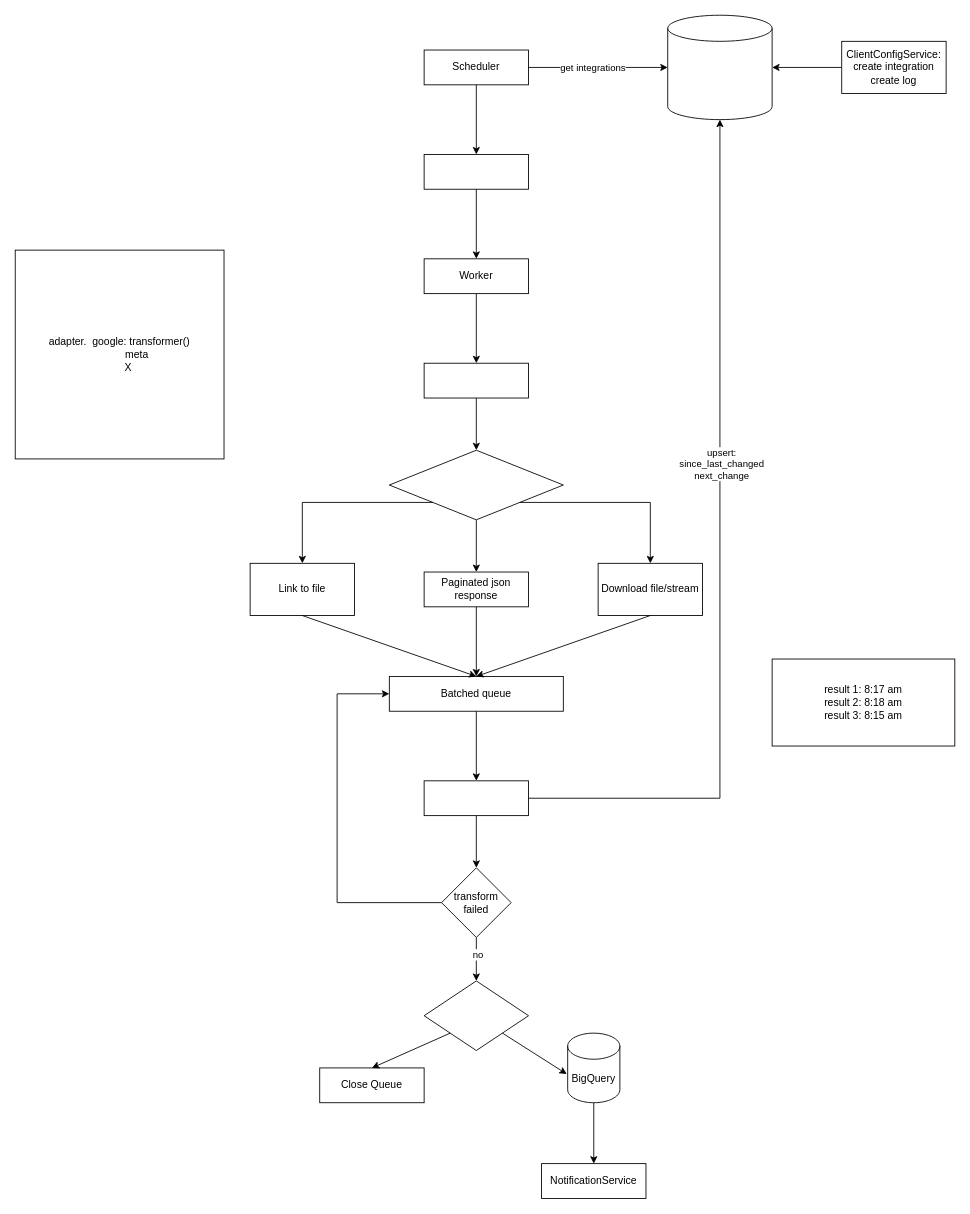
Some shapes in this 970 by 1214 pixel diagram are drawn without their labels. Here are the shapes that lost their labels. From the top down, the box of each, then its label:
(667, 14, 772, 120): Postgres: provider intergations client config logs
(423, 154, 529, 189): Queue
(423, 362, 529, 398): Intergation adapter
(388, 449, 563, 520): Response type
(423, 780, 529, 816): Transform worker
(423, 980, 529, 1051): Data validation
